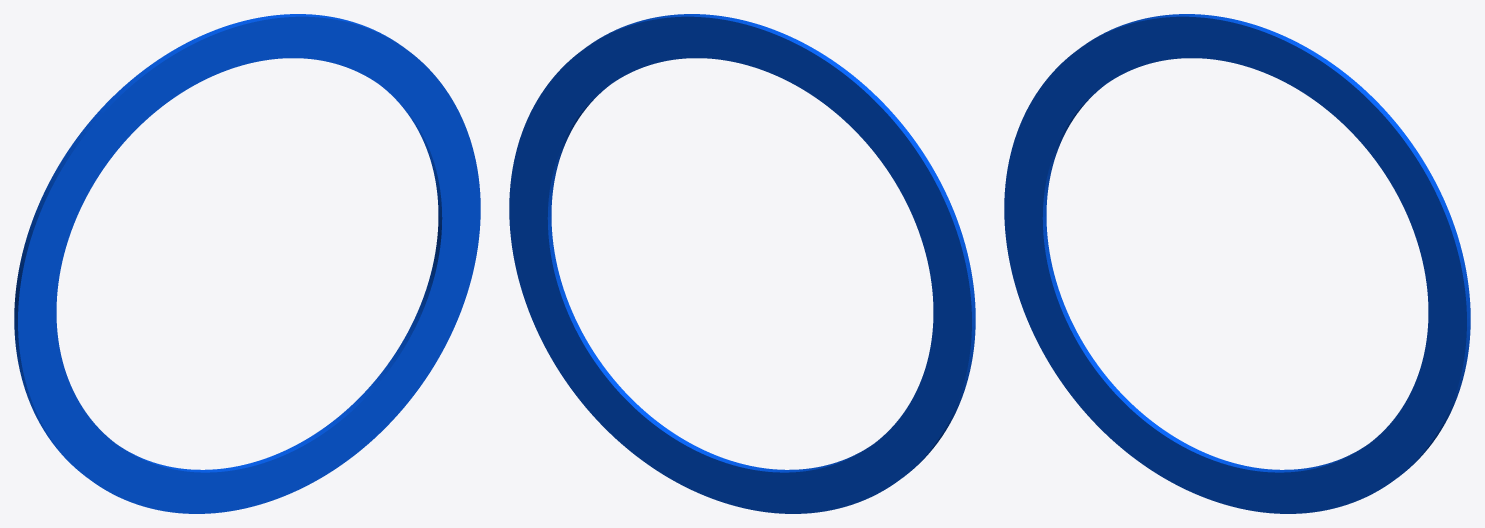
Rendered from gate_round_big_blue.dae.
3 views of the same model, side by side, from view 1: azimuth 30°, elevation 25°; view 2: azimuth 150°, elevation 25°; view 3: azimuth 330°, elevation 25° (orthographic).
Parts seen in each view (by area): view 1: gates_round_big; view 2: gates_round_big; view 3: gates_round_big.
Boxes of the visible parts, <box> form: gates_round_big: <box>14,14,480,513</box>; gates_round_big: <box>509,14,975,513</box>; gates_round_big: <box>1004,14,1470,513</box>.
Bounding box in the file's own units: 1.8 × 0.025 × 1.8.
